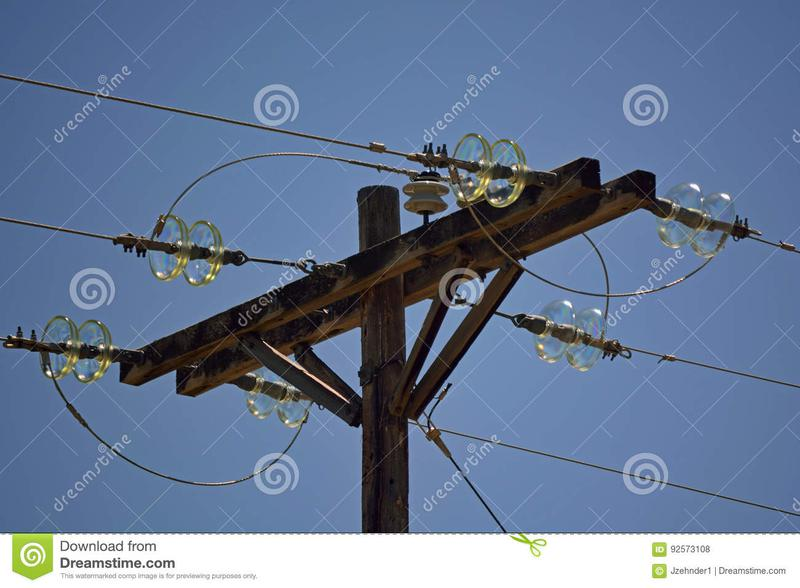isolator: (657, 181, 734, 258), (146, 213, 225, 288), (448, 132, 526, 207), (533, 298, 608, 373), (39, 315, 112, 384), (245, 365, 314, 428)
